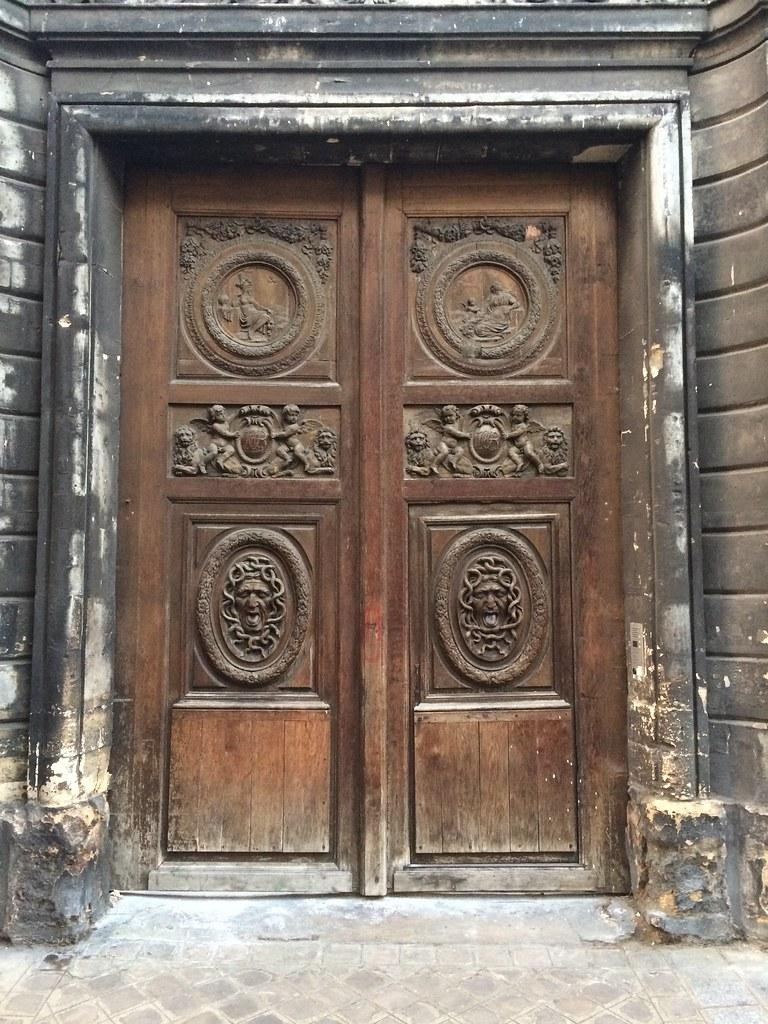door: (112, 155, 631, 899)
